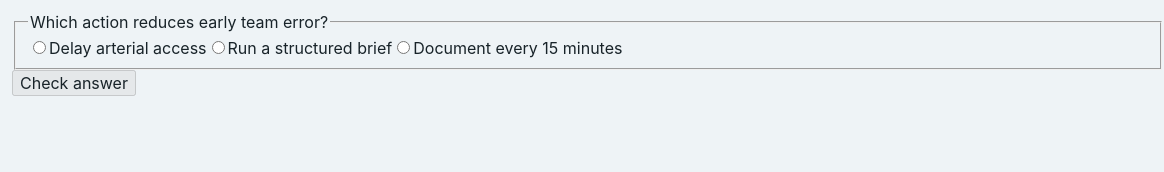
it: MultipleChoice › requires an explicit submission and reports whether the selected option is correct
Click the radio button labelled "Run a structured brief": (218, 47) [212,41,225,54]
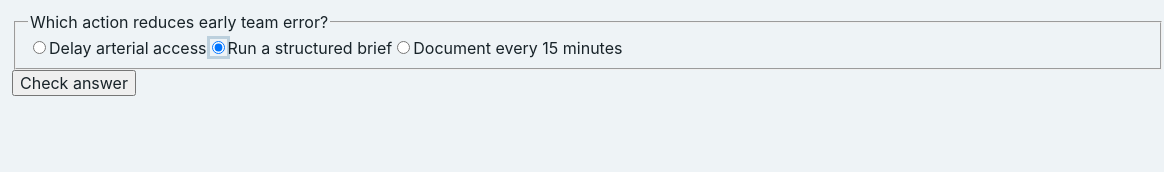
Click the button "Check answer": (74, 83) [12,70,136,96]
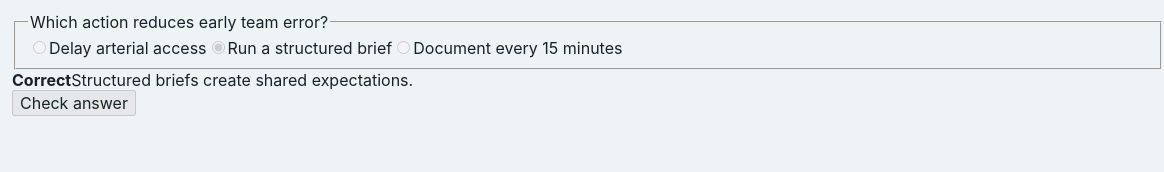
Check: the text "Structured briefs create shared expectations." is shown, box [71,70,413,90]
